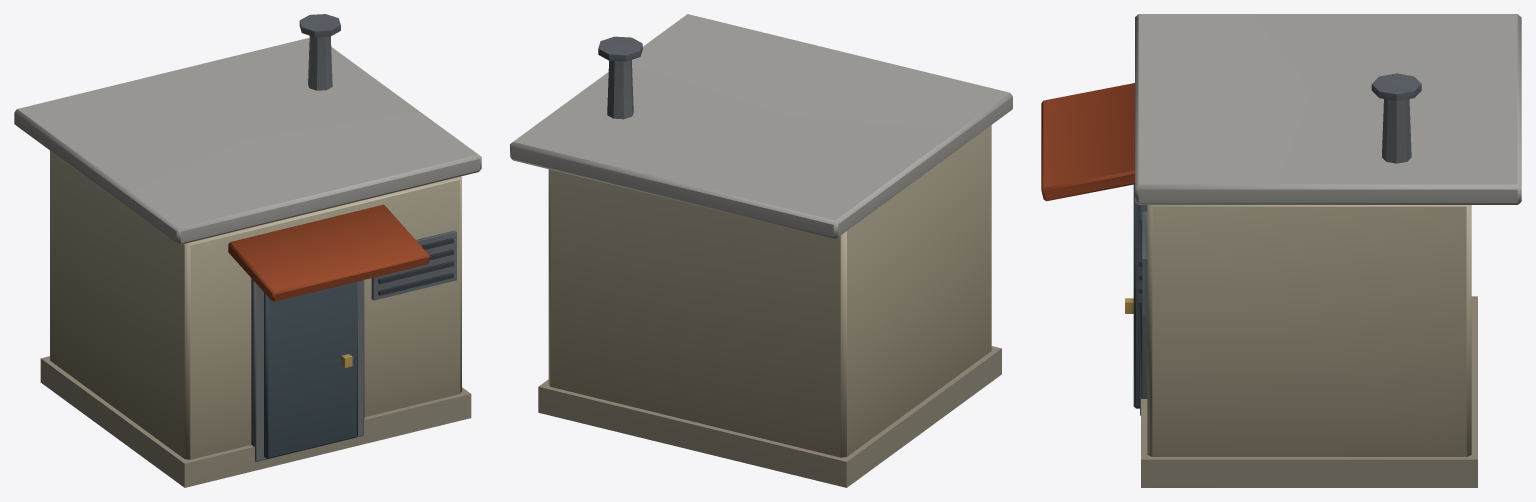
File: caja_escalera.glb
3 renders of one model, left to right at view 1: azimuth 30°, elevation 25°; view 2: azimuth 150°, elevation 25°; view 3: azimuth 270°, elevation 25°, orthographic. The views are drawn at different scales.
Visible parts, largest first — view 1: caja_escalera; view 2: caja_escalera; view 3: caja_escalera.
Boxes of the visible parts, box(x1,y1,x2,y2) form: caja_escalera: box(14, 14, 481, 487); caja_escalera: box(510, 14, 1012, 487); caja_escalera: box(1041, 14, 1521, 487).
Bounding box in the file's own units: 3.3 × 3.37 × 3.85.
